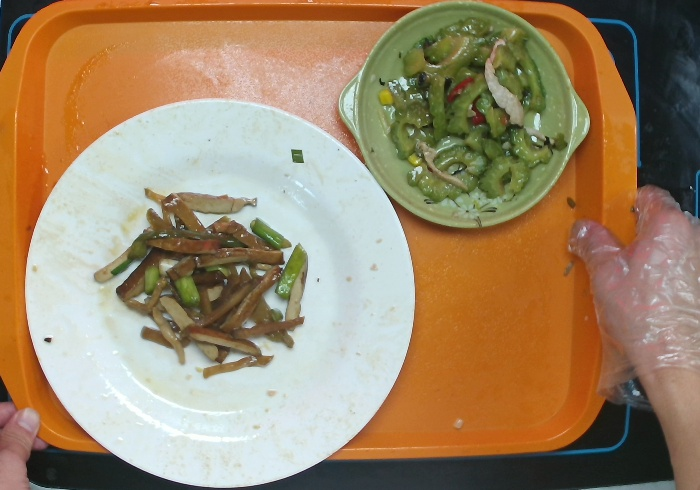NLDX-Da_Yuan_Pan: (17, 92, 420, 490)
NLDX-Lv_Hua_Shuang_Er_Die: (335, 1, 596, 237)
